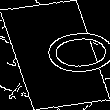O_W: (8, 29, 102, 81)
